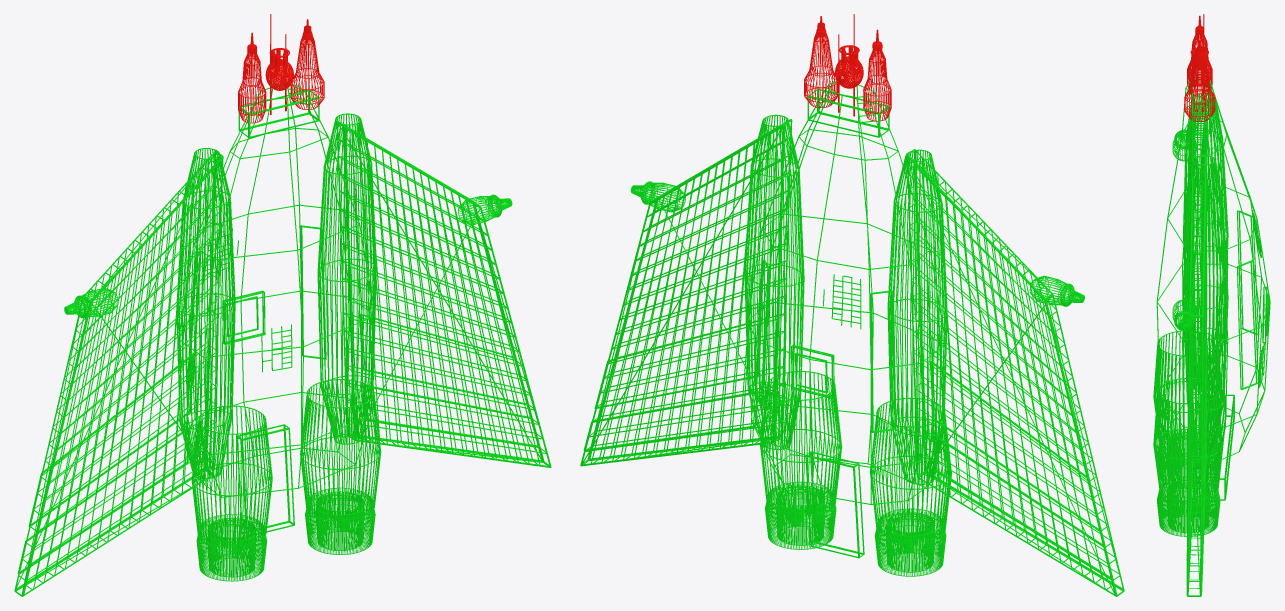
Rendered from terminator-highlight-anterior-device-assembly.glb.
3 renders of one model, left to right at view 1: azimuth 30°, elevation 25°; view 2: azimuth 150°, elevation 25°; view 3: azimuth 270°, elevation 25°, orthographic. The views are drawn at different scales.
Visible parts, largest first — view 1: chassis technical wire, twin-main-engine-thrusters technical wire, anterior-device-assembly technical wire, lateral-manoeuvring-thrusters technical wire; view 2: chassis technical wire, twin-main-engine-thrusters technical wire, anterior-device-assembly technical wire, lateral-manoeuvring-thrusters technical wire; view 3: chassis technical wire, twin-main-engine-thrusters technical wire, anterior-device-assembly technical wire, lateral-manoeuvring-thrusters technical wire.
Boxes of the visible parts, <box> form: chassis technical wire: <box>14,85,551,596</box>; twin-main-engine-thrusters technical wire: <box>196,487,375,581</box>; anterior-device-assembly technical wire: <box>238,14,324,123</box>; lateral-manoeuvring-thrusters technical wire: <box>64,194,512,318</box>; chassis technical wire: <box>580,81,1124,596</box>; twin-main-engine-thrusters technical wire: <box>765,481,946,576</box>; anterior-device-assembly technical wire: <box>804,14,891,121</box>; lateral-manoeuvring-thrusters technical wire: <box>630,181,1084,306</box>; chassis technical wire: <box>1153,78,1270,596</box>; twin-main-engine-thrusters technical wire: <box>1157,428,1220,536</box>; anterior-device-assembly technical wire: <box>1184,14,1215,121</box>; lateral-manoeuvring-thrusters technical wire: <box>1172,129,1196,331</box>.
Bounding box in the file's own units: 4.2 × 4.06 × 0.893.
